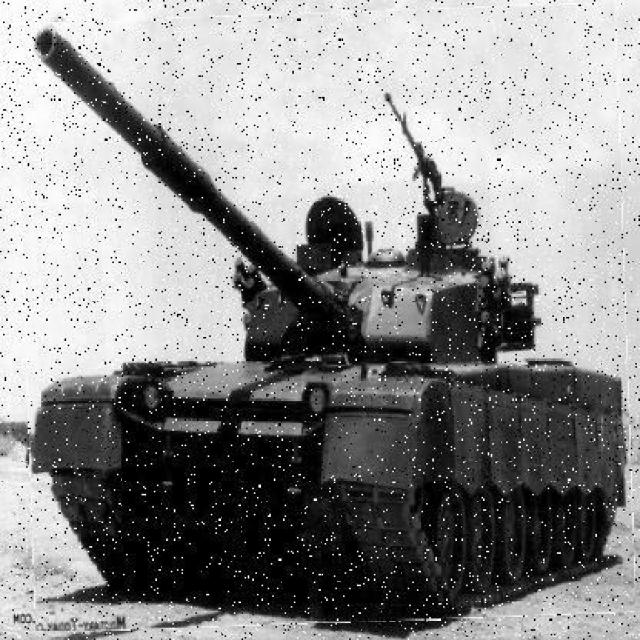Tank: (21, 10, 630, 629)
